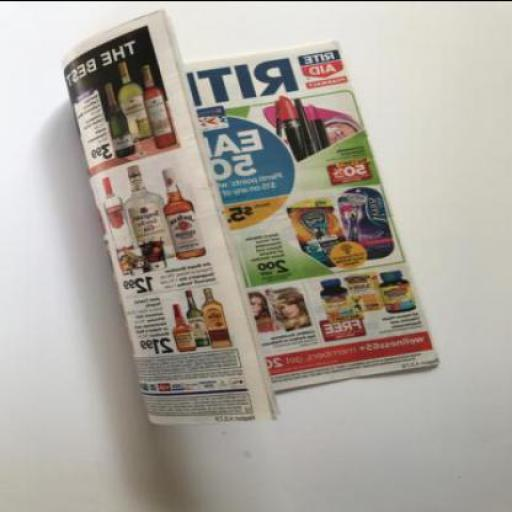paper: (58, 7, 439, 424)
